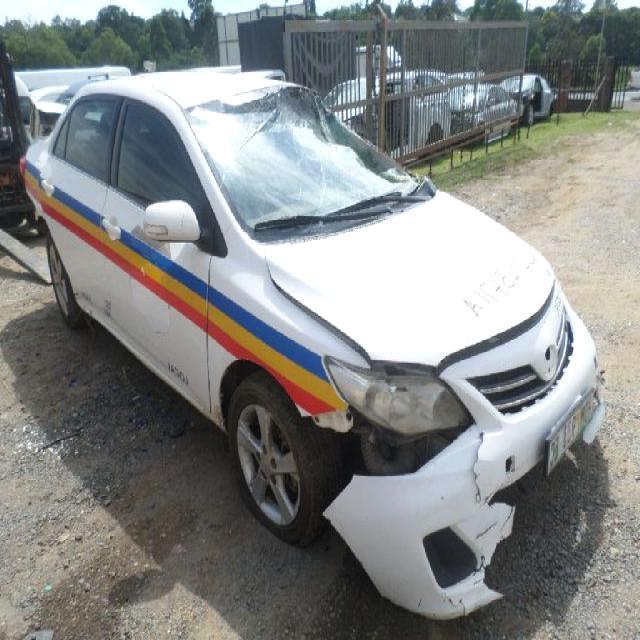minor: (295, 278, 597, 627)
